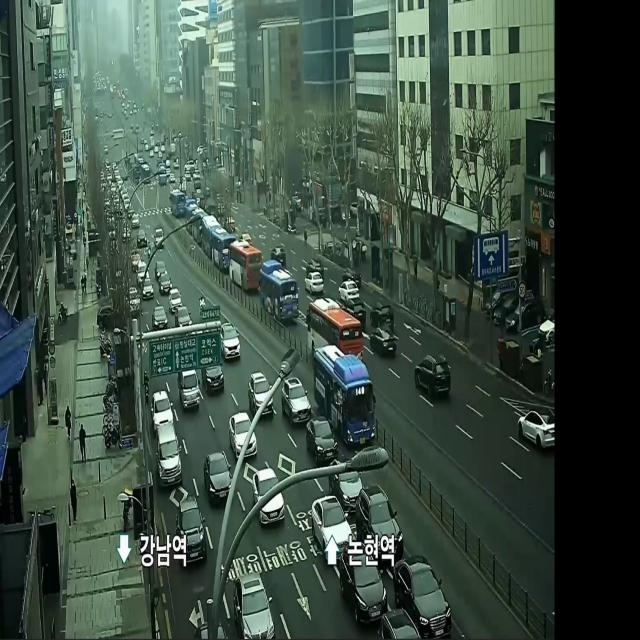bus: (199, 296, 206, 314)
car: (313, 343, 375, 449), (261, 260, 298, 324), (307, 302, 361, 336), (228, 242, 260, 298), (212, 230, 232, 269), (203, 216, 213, 256), (193, 210, 202, 240), (185, 200, 193, 232)
motorcycle: (344, 534, 381, 618), (398, 560, 445, 624), (232, 573, 274, 640), (516, 404, 555, 454), (313, 496, 344, 556), (414, 354, 452, 402), (365, 487, 395, 542), (256, 467, 284, 523), (178, 499, 202, 562), (158, 426, 181, 486), (204, 452, 230, 499), (282, 378, 306, 424), (232, 411, 256, 457), (308, 425, 337, 463), (253, 372, 273, 416), (371, 325, 393, 360), (338, 456, 356, 498), (182, 366, 200, 403), (222, 325, 239, 356), (154, 393, 170, 423), (204, 366, 224, 390), (375, 295, 394, 319), (342, 278, 360, 300), (152, 307, 168, 328), (128, 288, 140, 314), (176, 308, 192, 326), (169, 288, 182, 310), (308, 273, 322, 292), (154, 228, 164, 250), (159, 274, 171, 292), (142, 280, 154, 298), (137, 263, 149, 281), (307, 259, 323, 272), (272, 246, 286, 258), (156, 263, 167, 276)
